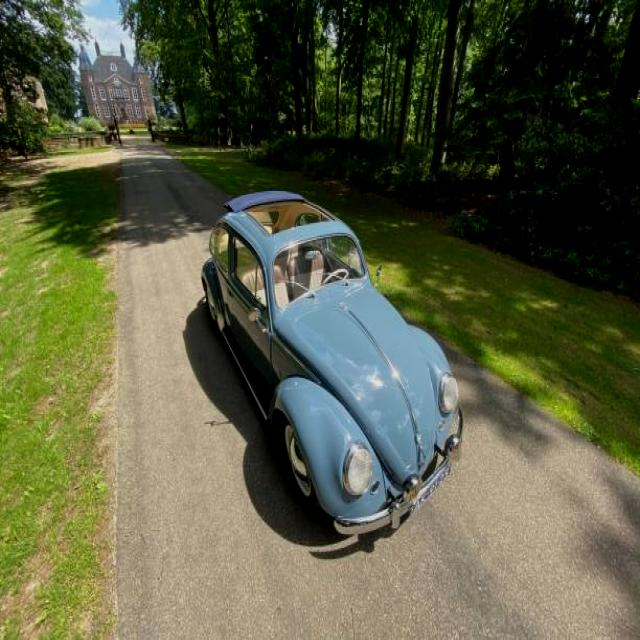car: (197, 194, 469, 528)
